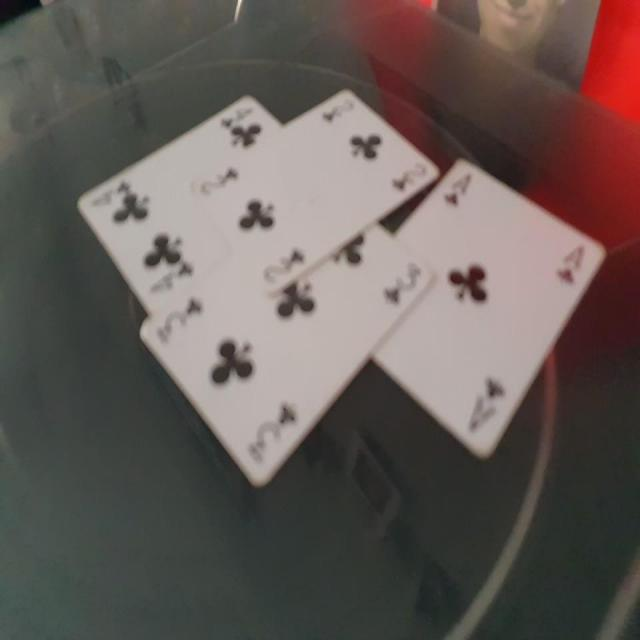2 Trefoils: (190, 85, 441, 298)
3 Trefoils: (138, 214, 438, 491)
4 Trefoils: (75, 92, 284, 316)
A Trefoils: (373, 156, 609, 466)
